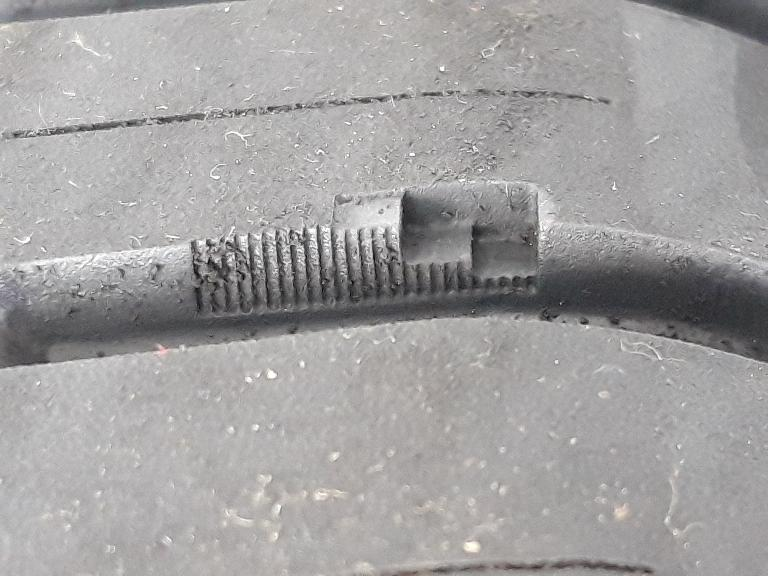temoin:50: (318, 173, 557, 317)
